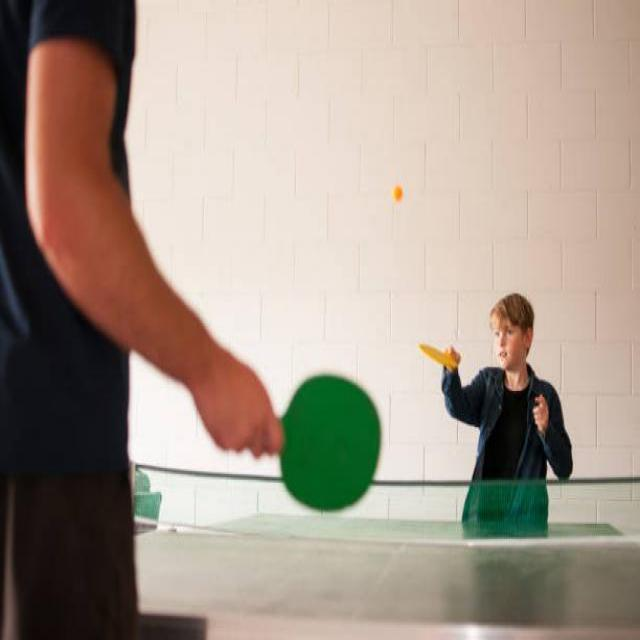ping-pong-ball: (393, 186, 403, 198)
